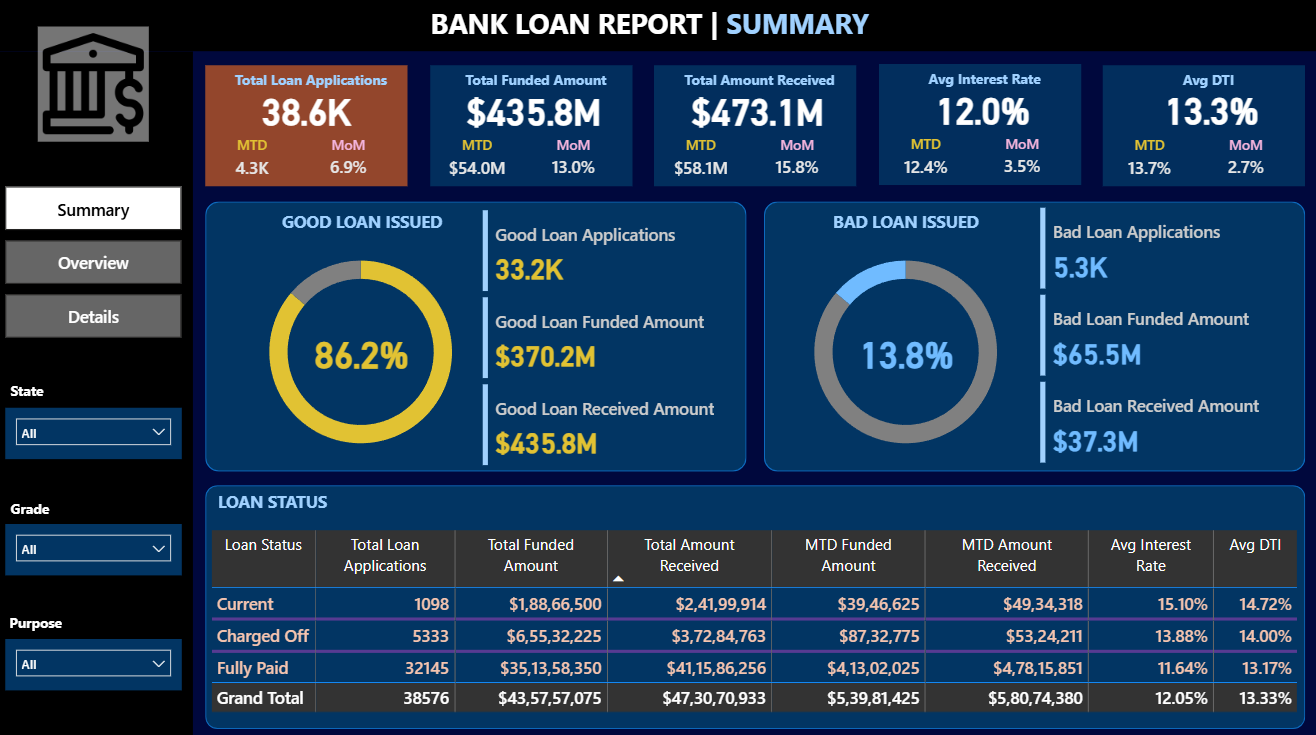

This screenshot's page, from the dashboard's own definition file:
{"tool":"powerbi","page":{"name":"Summary","canvas":[1280,720],"ordinal":0},"visuals":[{"type":"shape","box":[853.6,67.6,195.4,117],"z":0,"group":"g4"},{"type":"shape","box":[203.9,68.8,195.4,117],"z":0,"group":"g1"},{"type":"shape","box":[420.4,68.8,195.4,117],"z":0,"group":"g2"},{"type":"shape","box":[637,68.8,195.4,117],"z":0,"group":"g3"},{"type":"shape","box":[1070.1,68.8,195.4,117],"z":0,"group":"g5"},{"type":"shape","box":[203.9,200.3,522.4,260.6],"z":0},{"type":"card","fields":{"Values":["bank_loan_data.Avg Interest Rate"]},"box":[881.5,86,144.8,49.5],"z":1000,"group":"g4"},{"type":"card","fields":{"Values":["bank_loan_data.Avg DTI"]},"box":[1102.5,86,144.8,49.5],"z":1000,"group":"g5"},{"type":"card","fields":{"Values":["bank_loan_data.Total Loan Applications"]},"box":[240.1,86.9,123.1,49.5],"z":1000,"group":"g1"},{"type":"card","fields":{"Values":["bank_loan_data.Total Funded Amount"]},"box":[448.3,87.2,144.8,49.5],"z":1000,"group":"g2"},{"type":"card","fields":{"Values":["bank_loan_data.Total Amount Received"]},"box":[664.9,87.2,144.8,49.5],"z":1000,"group":"g3"},{"type":"donutChart","fields":{"Category":["bank_loan_data.Good v Bad Loan"],"Y":["bank_loan_data.Total Loan Applications"]},"box":[229.2,230.4,249.7,230.4],"z":1000},{"type":"shape","box":[0,0,1280,55.5],"z":2000},{"type":"textbox","box":[870.5,67.6,170.1,32.6],"z":2000,"group":"g4"},{"type":"textbox","box":[220.8,68.8,170.1,32.6],"z":2000,"group":"g1"},{"type":"textbox","box":[437.3,68.8,170.1,32.6],"z":2000,"group":"g2"},{"type":"textbox","box":[653.9,68.8,170.1,32.6],"z":2000,"group":"g3"},{"type":"textbox","box":[1087,68.8,170.1,32.6],"z":2000,"group":"g5"},{"type":"shape","box":[0,55.5,192,664.7],"z":3000},{"type":"card","title":"MTD","fields":{"Values":["bank_loan_data.MTD Avg Int Rate"]},"box":[853.6,135.2,90.5,49.5],"z":3000,"group":"g4"},{"type":"card","title":"MTD","fields":{"Values":["bank_loan_data.MTD Loan Applications"]},"box":[203.9,136.4,90.5,49.5],"z":3000,"group":"g1"},{"type":"card","title":"MTD","fields":{"Values":["bank_loan_data.MTD Funded Amount"]},"box":[420.4,136.4,90.5,49.5],"z":3000,"group":"g2"},{"type":"card","title":"MTD","fields":{"Values":["bank_loan_data.MTD Total Amount Received"]},"box":[637,136.4,90.5,49.5],"z":3000,"group":"g3"},{"type":"card","title":"MTD","fields":{"Values":["bank_loan_data.MTD Avg DTI"]},"box":[1070.1,136.4,90.5,49.5],"z":3000,"group":"g5"},{"type":"card","title":"MoM","fields":{"Values":["bank_loan_data.MoM Avg Int Rate"]},"box":[951.3,135.2,80.8,48.3],"z":4000,"group":"g4"},{"type":"card","title":"MoM","fields":{"Values":["bank_loan_data.MoM Loan Applications"]},"box":[301.6,136.4,80.8,48.3],"z":4000,"group":"g1"},{"type":"card","title":"MoM","fields":{"Values":["bank_loan_data.MoM Total Funded Amount"]},"box":[518.1,136.4,80.8,48.3],"z":4000,"group":"g2"},{"type":"card","title":"MoM","fields":{"Values":["bank_loan_data.MoM Total Amount Received"]},"box":[734.7,136.4,80.8,48.3],"z":4000,"group":"g3"},{"type":"card","title":"MoM","fields":{"Values":["bank_loan_data.MoM Avg DTI"]},"box":[1167.8,136.4,80.8,48.3],"z":4000,"group":"g5"},{"type":"textbox","box":[265.4,203.9,179.8,39.8],"z":4000},{"type":"card","fields":{"Values":["bank_loan_data.Good Loan %"]},"box":[293.2,323.3,123.1,45.8],"z":5000},{"type":"textbox","box":[416.2,4.8,448.8,47.1],"z":6000},{"type":"group","id":"g1","title":"Group 1","box":[203.9,68.8,195.4,117],"z":7000},{"type":"group","id":"g2","title":"Group 1","box":[420.4,68.8,195.4,117],"z":8000},{"type":"group","id":"g3","title":"Group 1","box":[637,68.8,195.4,117],"z":9000},{"type":"group","id":"g4","title":"Group 1","box":[853.6,67.6,195.4,117],"z":10000},{"type":"group","id":"g5","title":"Group 1","box":[1070.1,68.8,195.4,117],"z":11000},{"type":"shape","box":[743.2,200.3,522.4,260.6],"z":12000},{"type":"cardVisual","fields":{"Data":["bank_loan_data.Good Loan Applications","bank_loan_data.Good Loan Funded Amount","bank_loan_data.Good Loan Received Amount"]},"box":[466.9,203.9,259.4,257],"z":13000},{"type":"donutChart","fields":{"Category":["bank_loan_data.Good v Bad Loan"],"Y":["bank_loan_data.Total Loan Applications"]},"box":[755.2,230.4,249.7,230.4],"z":14000},{"type":"textbox","box":[790.2,203.9,179.8,39.8],"z":15000},{"type":"card","fields":{"Values":["bank_loan_data.Bad Loan %"]},"box":[819.2,323.3,123.1,45.8],"z":16000},{"type":"cardVisual","fields":{"Data":["bank_loan_data.Bad Loan Applications","bank_loan_data.Bad Loan Funded Amount","bank_loan_data.Bad Loan Received Amount"]},"box":[1005,201.5,259.4,257],"z":17000},{"type":"shape","box":[203.9,474.1,1061.7,235.3],"z":18000},{"type":"tableEx","fields":{"Values":["bank_loan_data.loan_status","bank_loan_data.Total Loan Applications","bank_loan_data.Total Funded Amount","bank_loan_data.Total Amount Received","bank_loan_data.MTD Total Funded Amount","bank_loan_data.MTD Total Amount Received","bank_loan_data.Avg Interest Rate","bank_loan_data.Avg DTI"]},"box":[203.9,512.7,1061.7,188.2],"z":19000},{"type":"textbox","box":[211.1,474.1,179.8,32.6],"z":20000},{"type":"slicer","fields":{"Values":["bank_loan_data.address_state"]},"box":[10.9,399.3,170.1,49.5],"z":21000},{"type":"textbox","box":[10.9,369.2,55.5,30.2],"z":22000},{"type":"slicer","fields":{"Values":["bank_loan_data.grade"]},"box":[10.9,510.9,170.1,49.5],"z":23000},{"type":"textbox","box":[10.9,482.6,56.7,30.2],"z":24000},{"type":"textbox","box":[9.7,592.4,86.9,30.2],"z":25000},{"type":"slicer","fields":{"Values":["bank_loan_data.purpose"]},"box":[10.9,622.5,170.1,49.5],"z":26000},{"type":"pageNavigator","box":[10.9,185.8,170.1,147.2],"z":26001},{"type":"image","box":[42.2,31.4,107.4,111],"z":26003}]}

Visuals, with their boxes in screenshot pixels (x1, y1, x2, y2), scaled from the page's 1280x720 canvas onto the 1316x735 screenshot:
shape: <bbox>878, 69, 1079, 188</bbox>
shape: <bbox>210, 70, 411, 190</bbox>
shape: <bbox>432, 70, 633, 190</bbox>
shape: <bbox>655, 70, 856, 190</bbox>
shape: <bbox>1100, 70, 1301, 190</bbox>
shape: <bbox>210, 204, 747, 471</bbox>
card - bank_loan_data.Avg Interest Rate: <bbox>906, 88, 1055, 138</bbox>
card - bank_loan_data.Avg DTI: <bbox>1134, 88, 1282, 138</bbox>
card - bank_loan_data.Total Loan Applications: <bbox>247, 89, 373, 139</bbox>
card - bank_loan_data.Total Funded Amount: <bbox>461, 89, 610, 140</bbox>
card - bank_loan_data.Total Amount Received: <bbox>684, 89, 832, 140</bbox>
donutChart - bank_loan_data.Good v Bad Loan x bank_loan_data.Total Loan Applications: <bbox>236, 235, 492, 470</bbox>
shape: <bbox>0, 0, 1315, 57</bbox>
textbox: <bbox>895, 69, 1070, 102</bbox>
textbox: <bbox>227, 70, 402, 104</bbox>
textbox: <bbox>450, 70, 624, 104</bbox>
textbox: <bbox>672, 70, 847, 104</bbox>
textbox: <bbox>1118, 70, 1292, 104</bbox>
shape: <bbox>0, 57, 197, 734</bbox>
"MTD" card: <bbox>878, 138, 971, 189</bbox>
"MTD" card: <bbox>210, 139, 303, 190</bbox>
"MTD" card: <bbox>432, 139, 525, 190</bbox>
"MTD" card: <bbox>655, 139, 748, 190</bbox>
"MTD" card: <bbox>1100, 139, 1193, 190</bbox>
"MoM" card: <bbox>978, 138, 1061, 187</bbox>
"MoM" card: <bbox>310, 139, 393, 189</bbox>
"MoM" card: <bbox>533, 139, 616, 189</bbox>
"MoM" card: <bbox>755, 139, 838, 189</bbox>
"MoM" card: <bbox>1201, 139, 1284, 189</bbox>
textbox: <bbox>273, 208, 458, 249</bbox>
card - bank_loan_data.Good Loan %: <bbox>301, 330, 428, 377</bbox>
textbox: <bbox>428, 5, 889, 53</bbox>
"Group 1" group: <bbox>210, 70, 411, 190</bbox>
"Group 1" group: <bbox>432, 70, 633, 190</bbox>
"Group 1" group: <bbox>655, 70, 856, 190</bbox>
"Group 1" group: <bbox>878, 69, 1079, 188</bbox>
"Group 1" group: <bbox>1100, 70, 1301, 190</bbox>
shape: <bbox>764, 204, 1301, 471</bbox>
cardVisual - bank_loan_data.Good Loan Applications x bank_loan_data.Good Loan Funded Amount: <bbox>480, 208, 747, 471</bbox>
donutChart - bank_loan_data.Good v Bad Loan x bank_loan_data.Total Loan Applications: <bbox>776, 235, 1033, 470</bbox>
textbox: <bbox>812, 208, 997, 249</bbox>
card - bank_loan_data.Bad Loan %: <bbox>842, 330, 969, 377</bbox>
cardVisual - bank_loan_data.Bad Loan Applications x bank_loan_data.Bad Loan Funded Amount: <bbox>1033, 206, 1300, 468</bbox>
shape: <bbox>210, 484, 1301, 724</bbox>
tableEx - bank_loan_data.loan_status x bank_loan_data.Total Loan Applications: <bbox>210, 523, 1301, 716</bbox>
textbox: <bbox>217, 484, 402, 517</bbox>
slicer - bank_loan_data.address_state: <bbox>11, 408, 186, 458</bbox>
textbox: <bbox>11, 377, 68, 408</bbox>
slicer - bank_loan_data.grade: <bbox>11, 522, 186, 572</bbox>
textbox: <bbox>11, 493, 70, 523</bbox>
textbox: <bbox>10, 605, 99, 636</bbox>
slicer - bank_loan_data.purpose: <bbox>11, 635, 186, 686</bbox>
pageNavigator: <bbox>11, 190, 186, 340</bbox>
image: <bbox>43, 32, 154, 145</bbox>
